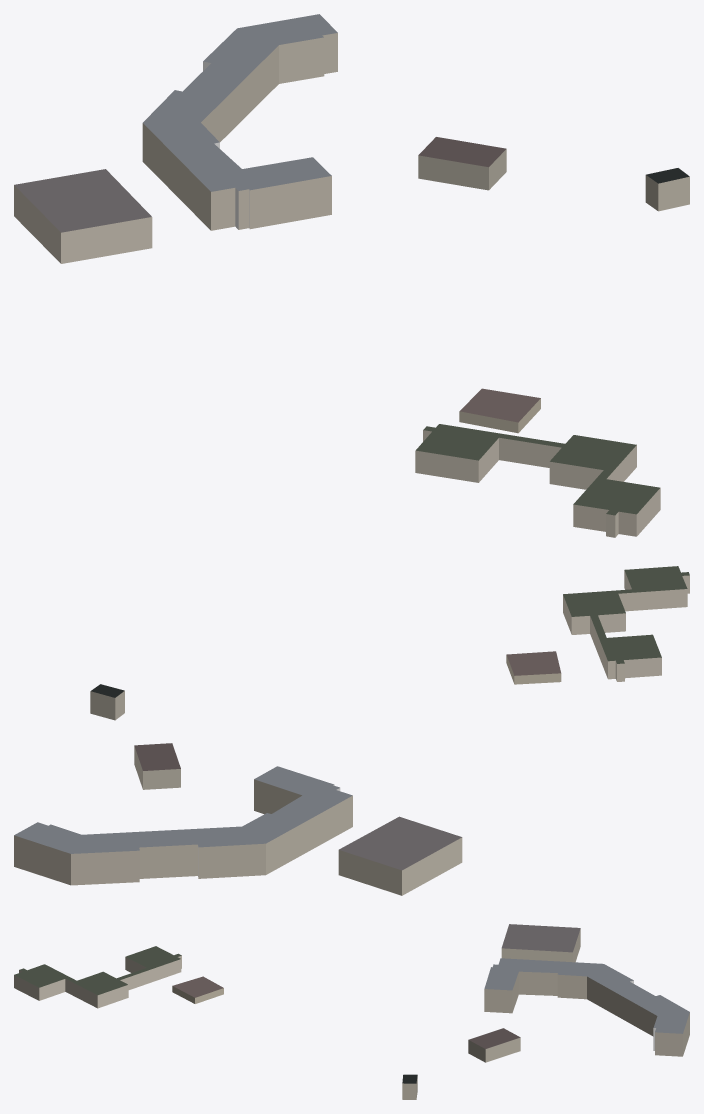
3 renders of one model, top to bottom at view 1: azimuth 30°, elevation 25°; view 2: azimuth 150°, elevation 25°; view 3: azimuth 270°, elevation 25°, orthographic. The views are drawn at different scales.
Parts seen in each view (by area): view 1: tuile; view 2: tuile; view 3: tuile.
Part boxes in pixels (x1=…): tuile: x1=14, y1=14, x2=689, y2=537; tuile: x1=14, y1=566, x2=689, y2=895; tuile: x1=14, y1=924, x2=689, y2=1099.
Size of the model in its own units: 181 by 15.36 by 335.
